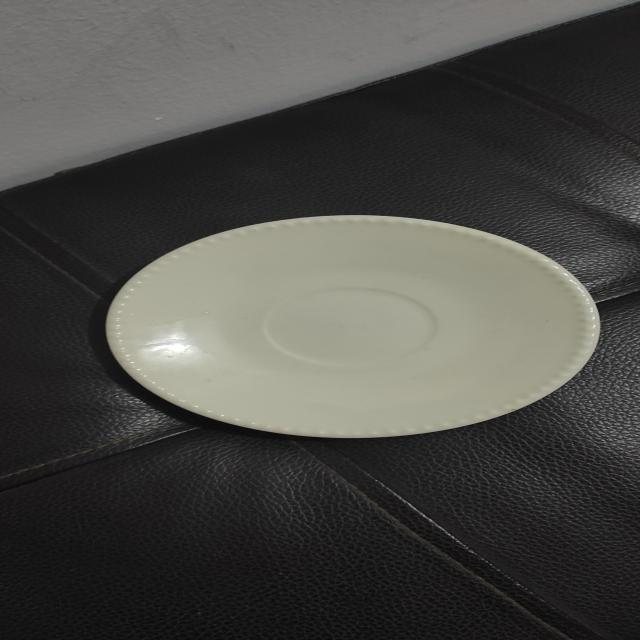non-organic waste: (96, 214, 632, 476)
